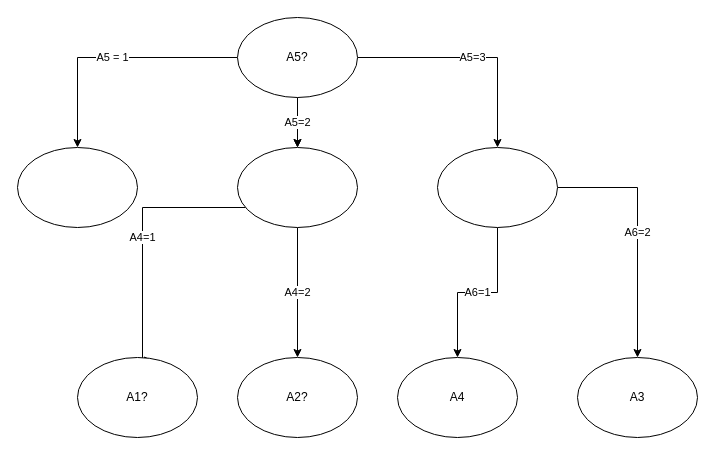
This 715x455 diagram has some shape labels left out. The shapes that lost their labels are listed below. From the top down, each one's box as (x1, y1, x2, y2) in pixels, then its label:
(16, 146, 138, 228): Sample is classified
(236, 146, 358, 228): A4?
(436, 146, 558, 228): A6?
